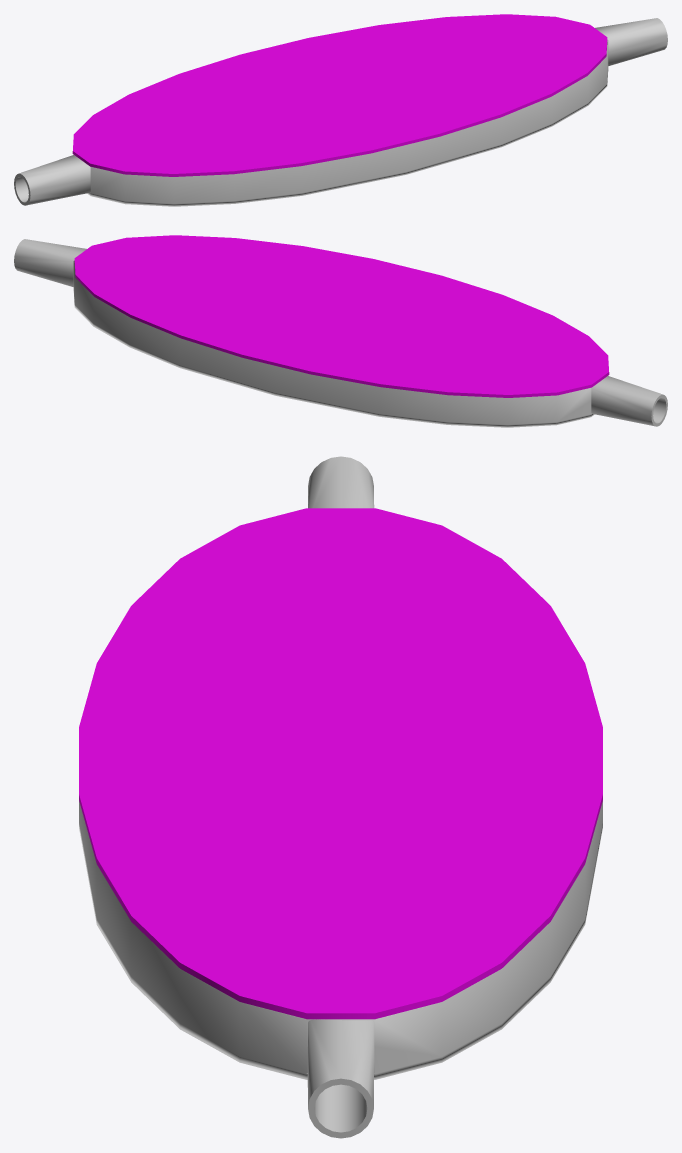
File: A1-Stadium-01.fbx
The picture shows the model from 3 angles, top to bottom: view 1: azimuth 30°, elevation 25°; view 2: azimuth 150°, elevation 25°; view 3: azimuth 270°, elevation 25°; orthographic projection. The views are drawn at different scales.
Visible parts, largest first — view 1: pPipe5; view 2: pPipe5; view 3: pPipe5.
Part boxes in pixels (x1,y1,x2,y2): pPipe5: (14,14,667,206); pPipe5: (14,235,667,427); pPipe5: (79,456,602,1138).
Size of the model in its own units: 111394 by 5500 by 39658.
